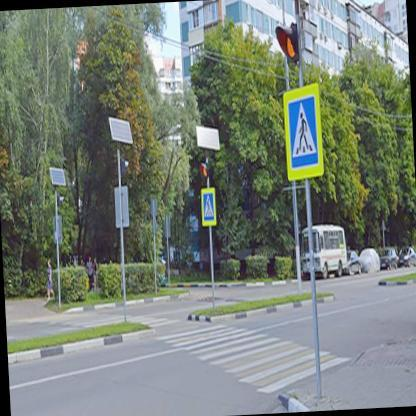road_sign: (283, 83, 323, 180), (202, 188, 218, 227)
